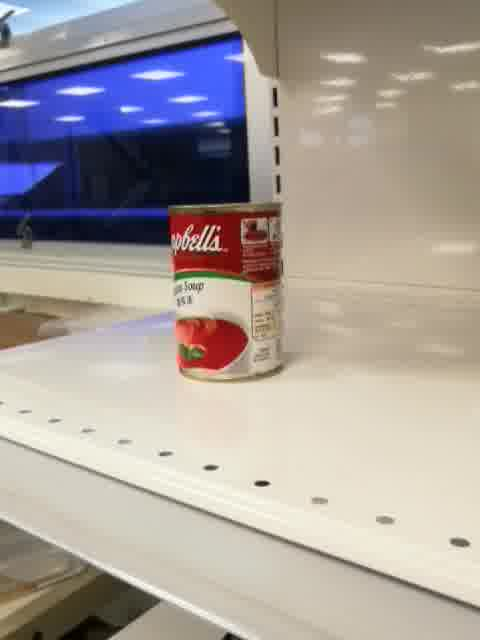tomatosoup: (167, 198, 288, 387)
